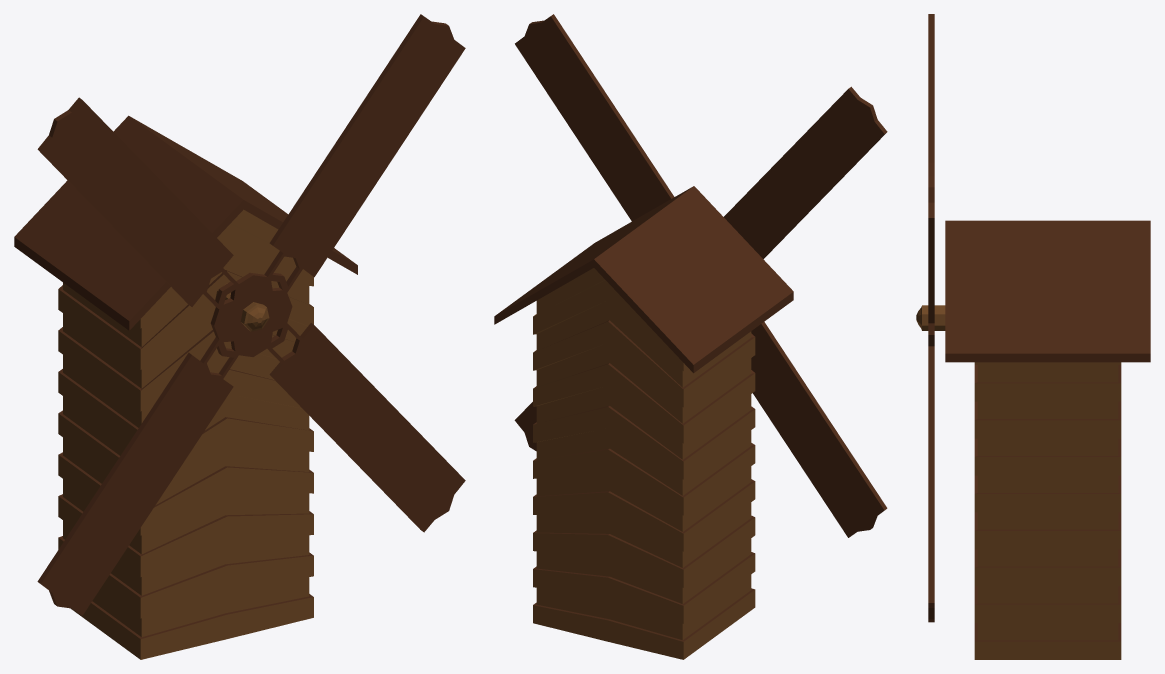
File: Mill1.fbx
3 renders of one model, left to right at view 1: azimuth 30°, elevation 25°; view 2: azimuth 150°, elevation 25°; view 3: azimuth 270°, elevation 25°, orthographic. The views are drawn at different scales.
Visible parts, largest first — view 1: Plane, Plane.001, Cylinder; view 2: Plane, Plane.001; view 3: Plane, Plane.001, Cylinder.
Part boxes in pixels (left/top/right/bottom): Plane: left=14, top=115, right=357, bottom=659; Plane.001: left=37, top=14, right=465, bottom=615; Cylinder: left=215, top=283, right=269, bottom=331; Plane: left=494, top=186, right=793, bottom=659; Plane.001: left=514, top=14, right=887, bottom=537; Plane: left=945, top=220, right=1150, bottom=659; Plane.001: left=928, top=14, right=934, bottom=622; Cylinder: left=916, top=305, right=945, bottom=330.
Size of the model in its own units: 273 by 369 by 146.
